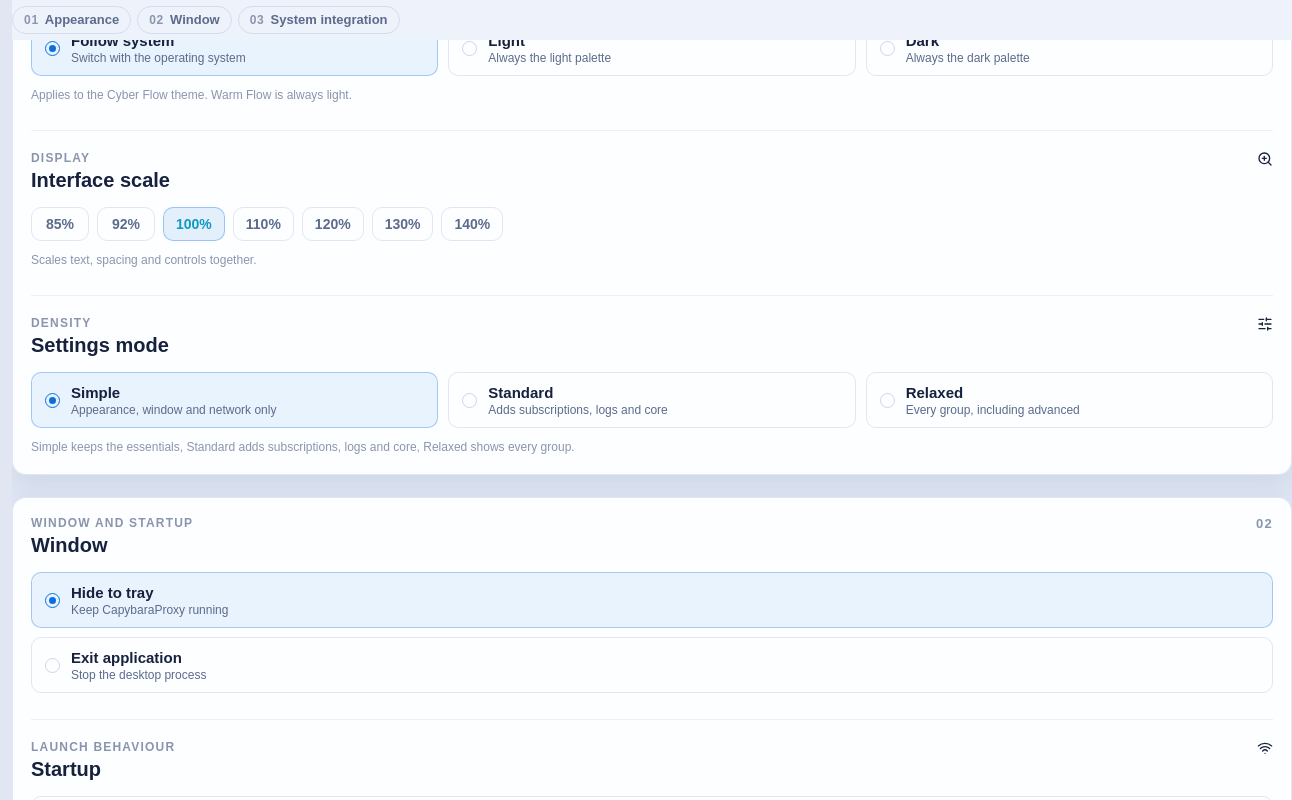
Test case: SettingsPage layout modes › persists a mode change and re-renders the visible groups
(page scrolled)
Step 1. Click the button "Relaxed Every group, including advanced" → (1069, 400), box 866,372 -> 1273,428
(page scrolled)
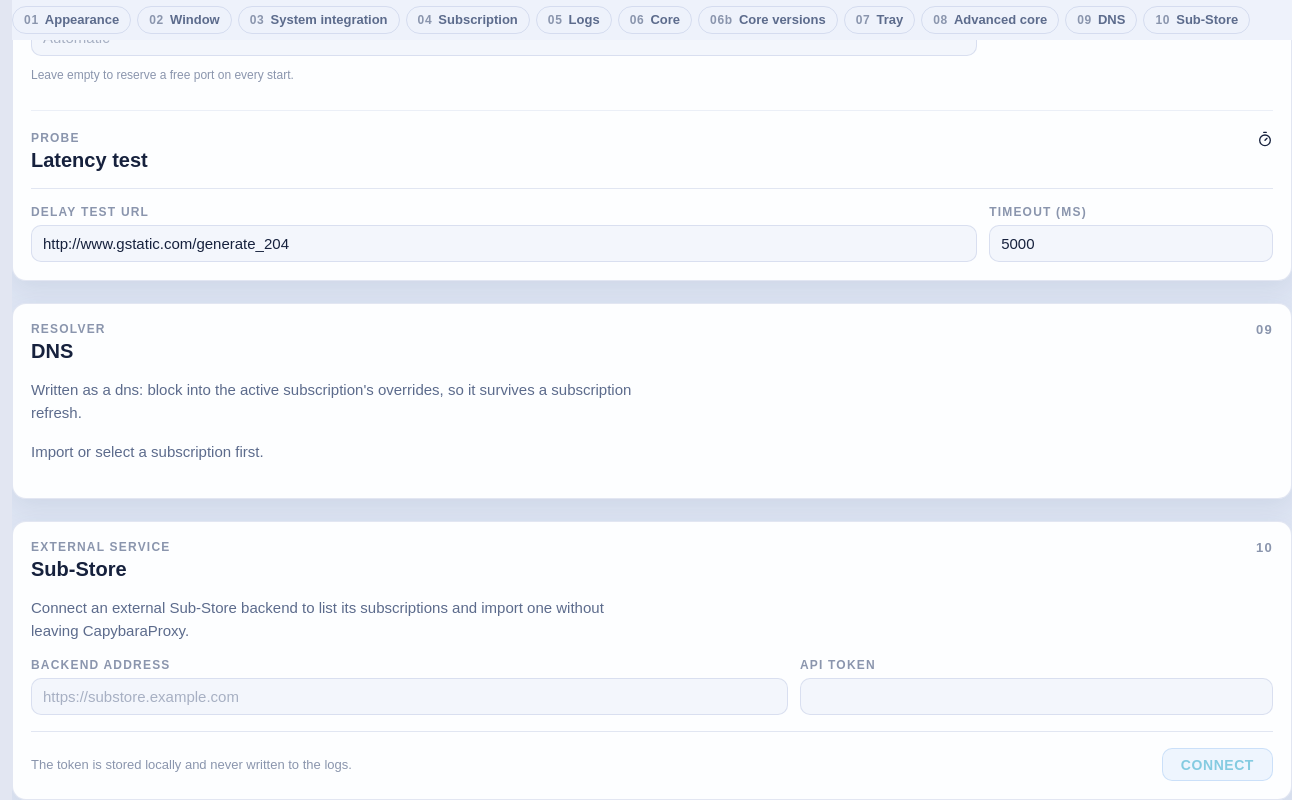
Now the heading "Sub-Store" is shown, box 31,558 -> 127,580
